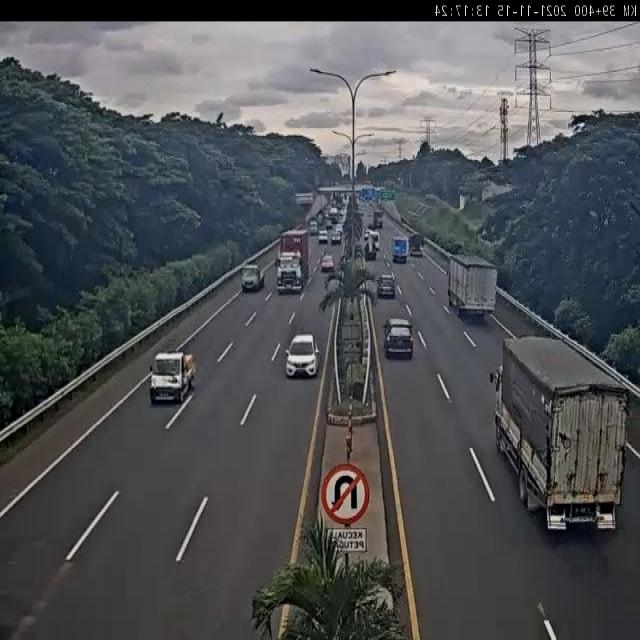Car: (150, 349, 195, 404), (283, 336, 321, 379), (383, 316, 413, 359), (241, 264, 265, 292), (377, 273, 396, 298), (321, 254, 335, 273), (318, 230, 329, 245), (331, 230, 342, 245), (309, 219, 318, 235)
Truck: (491, 337, 629, 537), (447, 255, 498, 318), (274, 230, 308, 294), (391, 237, 409, 263)
